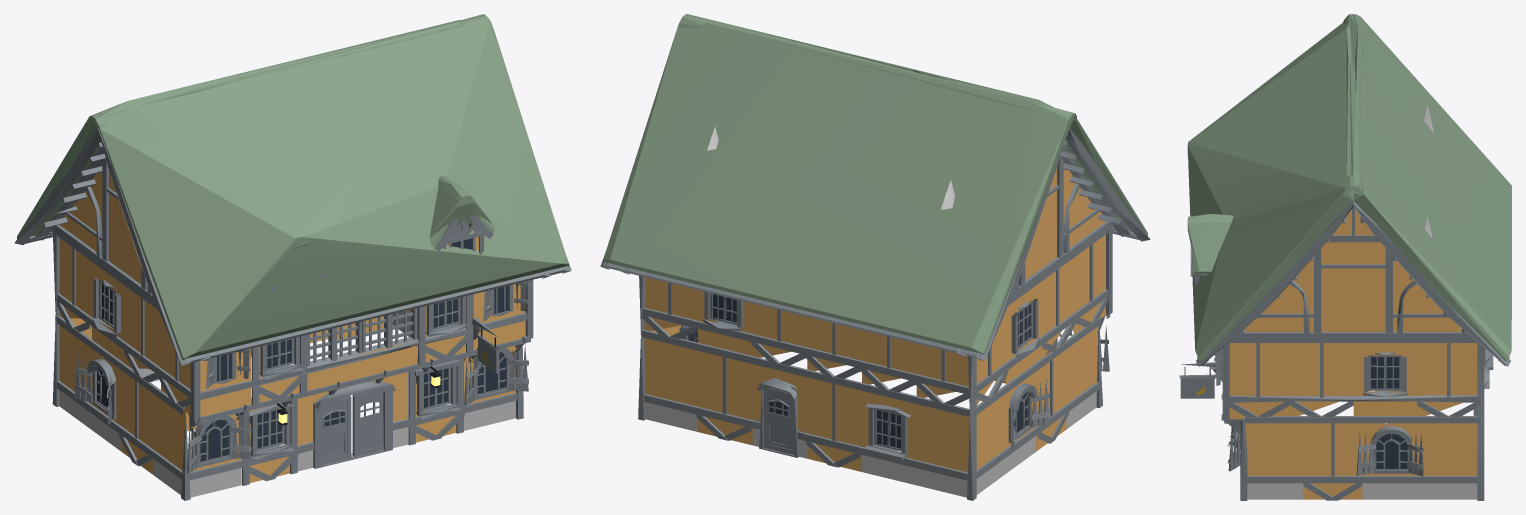
File: generated.tavern.gltf
3 renders of one model, left to right at view 1: azimuth 30°, elevation 25°; view 2: azimuth 150°, elevation 25°; view 3: azimuth 270°, elevation 25°, orthographic. The views are drawn at different scales.
Parts seen in each view (by area): view 1: lod; view 2: lod; view 3: lod.
Boxes of the visible parts, box(x1,y1,x2,y2) form: lod: box(14, 14, 571, 500); lod: box(600, 14, 1150, 500); lod: box(1179, 14, 1511, 500).
Bounding box in the file's own units: 14.23 × 12.14 × 11.24.
